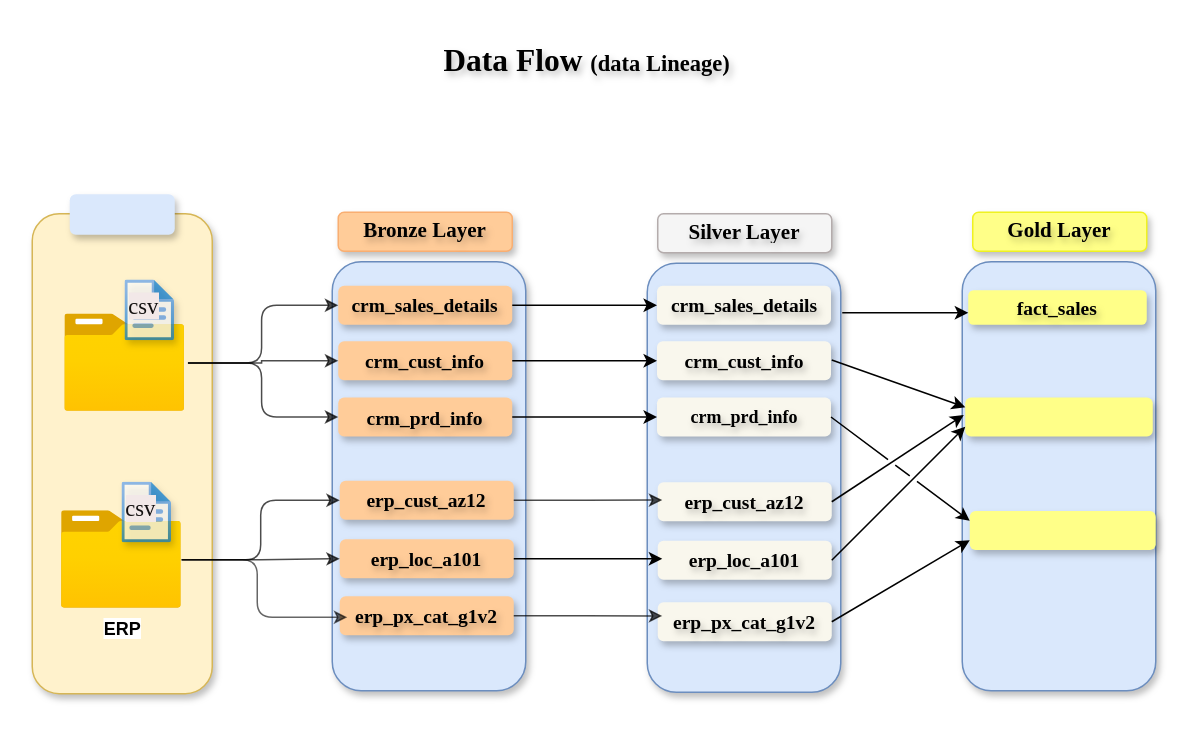
Image size: 1191x732. Some labels were removed from this diagram. Each missing label, with the centre of its shape:
"CRM" belongs at [124,362].
"dimension_customers" belongs at [1059,418].
"dimension_products" belongs at [1063,532].
"Sources" belongs at [123,216].
